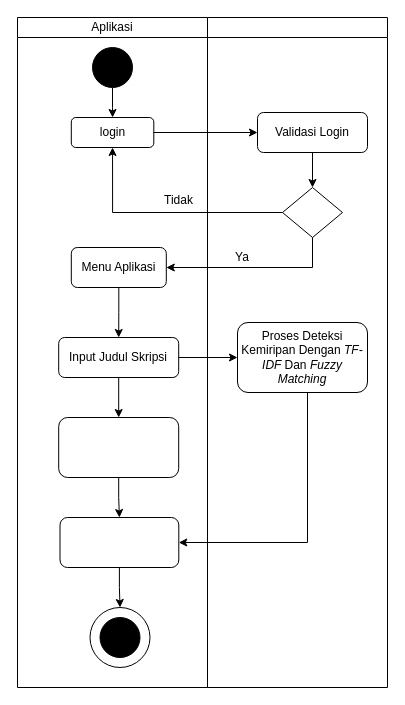
This 405x705 diagram has some shape labels left out. The box of each missing label's shape, as (x1, y1, x2, y2) in pixels:
Mengelola Judul Skripsi: (58, 416, 179, 478)
Sistem: (206, 16, 388, 688)
View Hasil: (59, 516, 179, 568)
